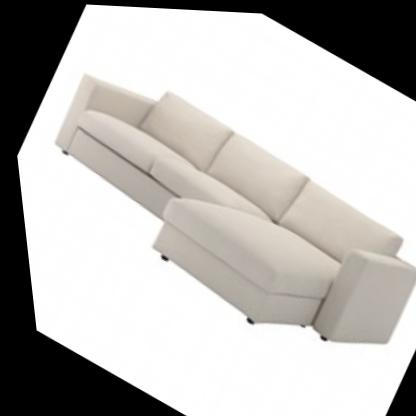Sofa: (1, 14, 416, 405)
